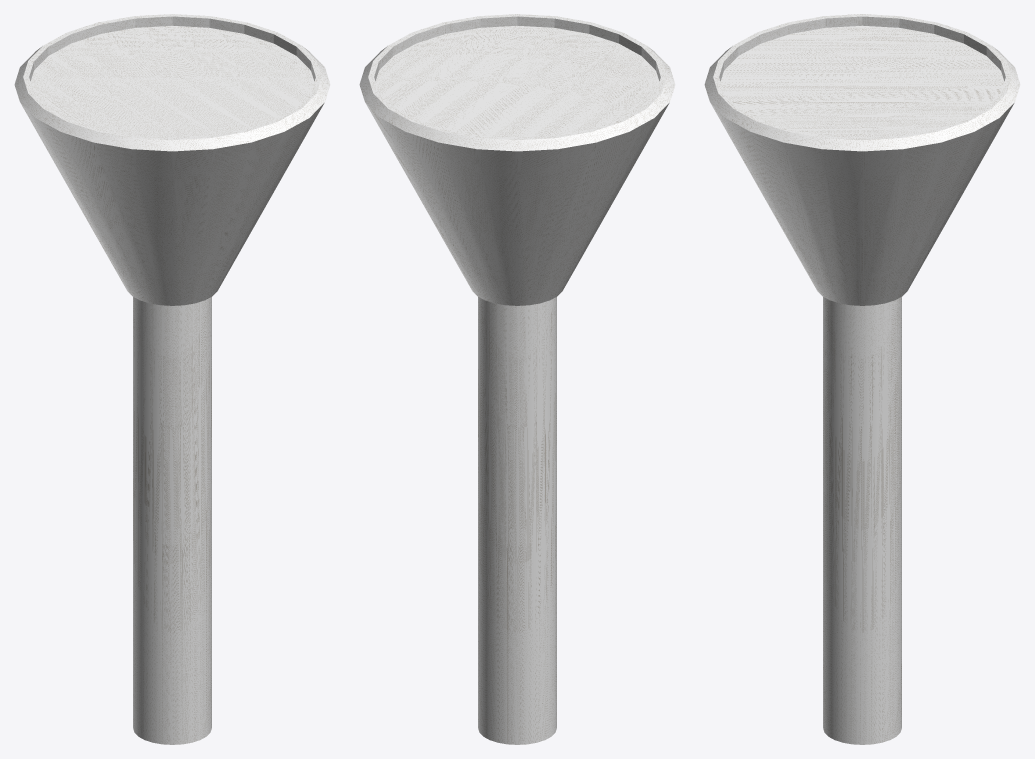
Rendered from Techni_WaterTower.dae.
3 views of the same model, side by side, from view 1: azimuth 30°, elevation 25°; view 2: azimuth 150°, elevation 25°; view 3: azimuth 270°, elevation 25° (orthographic).
Visible parts, largest first — view 1: SketchUp (×3); view 2: SketchUp (×3); view 3: SketchUp (×3).
Part boxes in pixels (left/top/right/bottom): SketchUp (×3): left=14, top=14, right=330, bottom=744; SketchUp (×3): left=359, top=14, right=675, bottom=744; SketchUp (×3): left=704, top=14, right=1020, bottom=744.
Size of the model in its own units: 537 by 537 by 1221.
2 materials, 1 textured.
